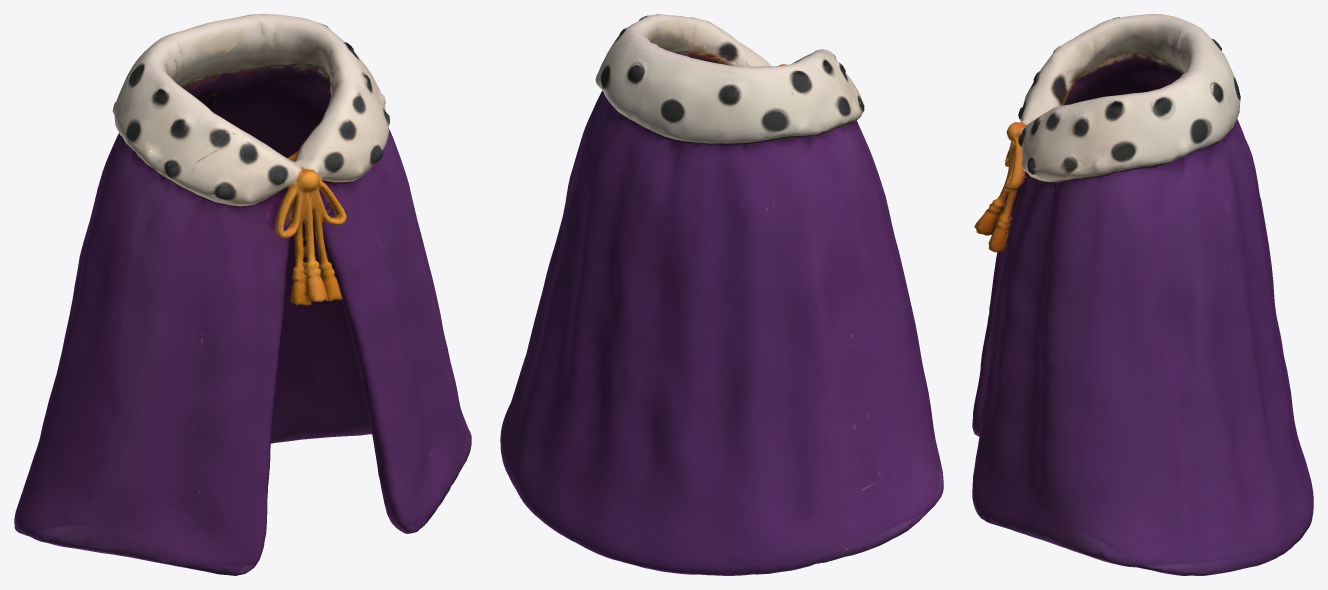
File: Robe-Purple.glb
The picture shows the model from 3 angles, left to right: view 1: azimuth 30°, elevation 25°; view 2: azimuth 150°, elevation 25°; view 3: azimuth 270°, elevation 25°; orthographic projection. The views are drawn at different scales.
Visible parts, largest first — view 1: Robe-Purple; view 2: Robe-Purple; view 3: Robe-Purple.
Boxes of the visible parts, box(x1,y1,x2,y2) form: Robe-Purple: box(14, 14, 471, 575); Robe-Purple: box(500, 14, 943, 575); Robe-Purple: box(972, 14, 1313, 575).
Size of the model in its own units: 0.6173 by 0.6573 by 0.442.
1 material, 1 textured.
